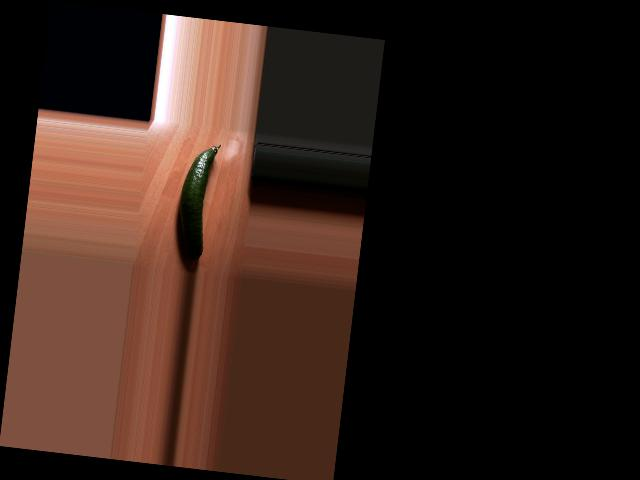cucumber: (172, 140, 220, 262)
